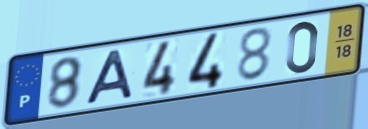0: (284, 19, 320, 75)
4: (185, 30, 226, 91), (139, 38, 178, 97)
8: (45, 54, 86, 112), (235, 25, 275, 83)
A: (84, 47, 137, 107)
